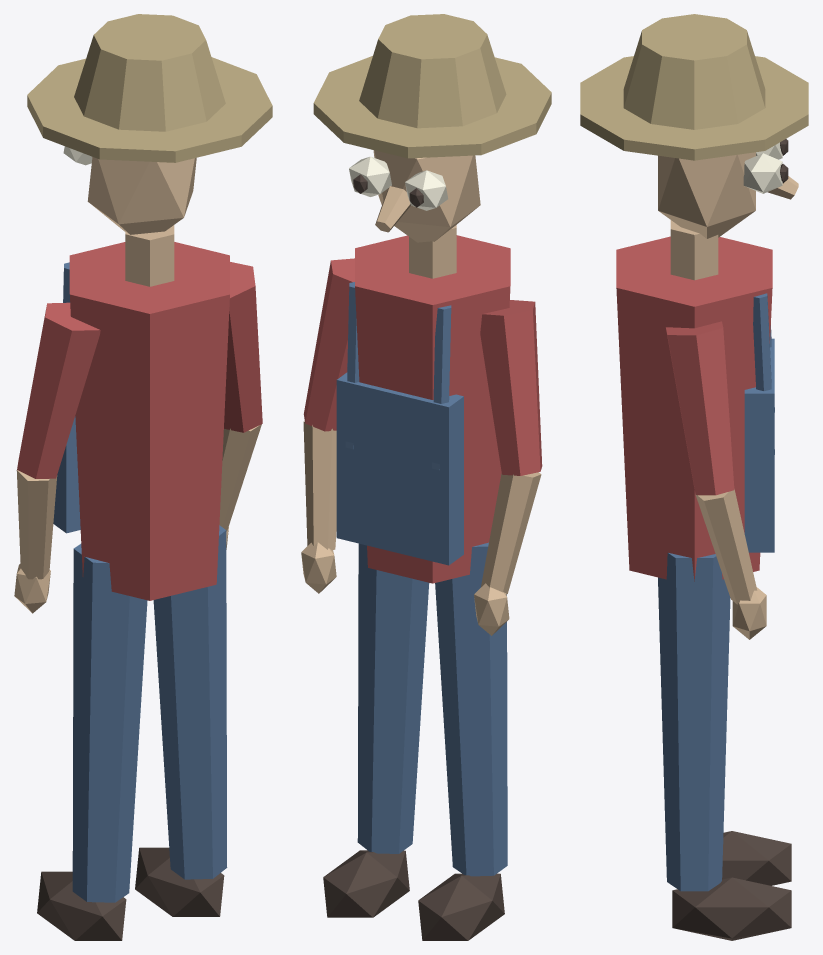
Rendered from ForestLady.fbx.
3 renders of one model, left to right at view 1: azimuth 30°, elevation 25°; view 2: azimuth 150°, elevation 25°; view 3: azimuth 270°, elevation 25°, orthographic. The views are drawn at different scales.
Visible parts, largest first — view 1: Torso, Leg1, Leg-1, Hat, Brim, Sleeve1, Head, Sleeve-1, Boot1, Boot-1, Arm1, Neck (+3 smaller); view 2: Torso, Bib, Leg1, Leg-1, Hat, Brim, Sleeve1, Sleeve-1, Head, Boot1, Boot-1, Arm1 (+9 smaller); view 3: Torso, Leg-1, Hat, Brim, Sleeve-1, Head, Boot-1, Bib, Arm-1, Boot1, Neck, Strap-1 (+2 smaller).
Part boxes in pixels (x1=…): Torso: x1=69, y1=242, x2=229, y2=600; Leg1: x1=72, y1=543, x2=147, y2=902; Leg-1: x1=153, y1=525, x2=227, y2=879; Hat: x1=74, y1=14, x2=225, y2=131; Brim: x1=27, y1=57, x2=272, y2=162; Sleeve1: x1=17, y1=302, x2=100, y2=478; Head: x1=87, y1=157, x2=196, y2=234; Sleeve-1: x1=224, y1=262, x2=262, y2=432; Boot1: x1=37, y1=871, x2=126, y2=940; Boot-1: x1=135, y1=847, x2=224, y2=916; Arm1: x1=16, y1=470, x2=57, y2=579; Neck: x1=125, y1=225, x2=174, y2=286; Torso: x1=355, y1=235, x2=510, y2=583; Bib: x1=336, y1=372, x2=463, y2=565; Leg1: x1=435, y1=542, x2=507, y2=876; Leg-1: x1=357, y1=543, x2=429, y2=853; Hat: x1=359, y1=14, x2=506, y2=128; Brim: x1=313, y1=56, x2=551, y2=158; Sleeve1: x1=480, y1=300, x2=542, y2=475; Sleeve-1: x1=303, y1=258, x2=354, y2=431; Head: x1=373, y1=150, x2=480, y2=242; Boot1: x1=418, y1=873, x2=504, y2=940; Boot-1: x1=323, y1=850, x2=409, y2=917; Arm1: x1=481, y1=472, x2=541, y2=594; Torso: x1=616, y1=236, x2=772, y2=581; Leg-1: x1=658, y1=553, x2=730, y2=891; Hat: x1=623, y1=14, x2=765, y2=129; Brim: x1=580, y1=56, x2=808, y2=160; Sleeve-1: x1=666, y1=321, x2=734, y2=495; Head: x1=658, y1=152, x2=755, y2=238; Boot-1: x1=672, y1=877, x2=791, y2=940; Bib: x1=744, y1=338, x2=774, y2=552; Arm-1: x1=695, y1=489, x2=757, y2=604; Boot1: x1=722, y1=831, x2=791, y2=885; Neck: x1=670, y1=220, x2=718, y2=280; Strap-1: x1=753, y1=293, x2=774, y2=454.
Bounding box in the file's own units: 0.5483 × 1.94 × 0.4565.
